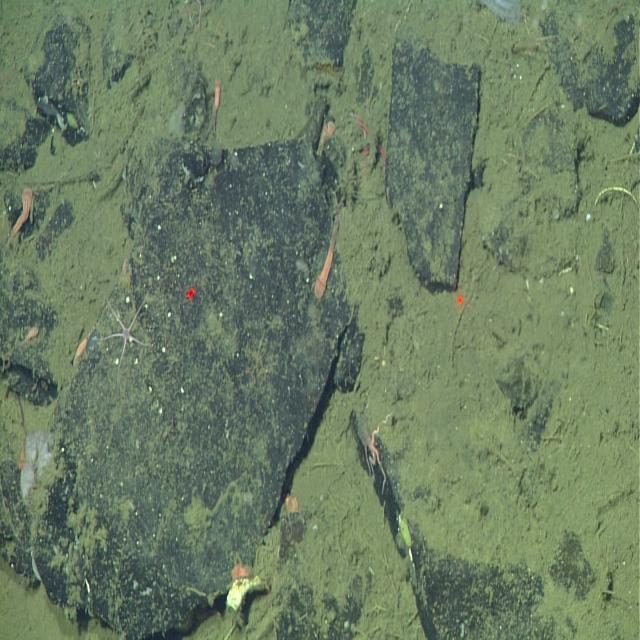Brittle Star: (99, 289, 152, 373), (356, 398, 397, 498)
